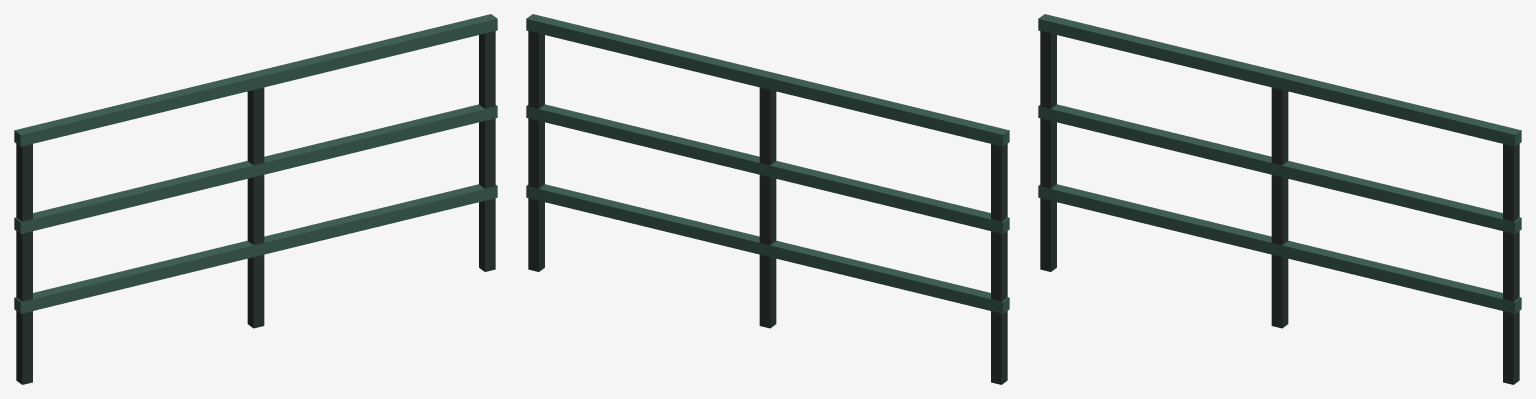
Rendered from balcony_railing.glb.
3 renders of one model, left to right at view 1: azimuth 30°, elevation 25°; view 2: azimuth 150°, elevation 25°; view 3: azimuth 330°, elevation 25°, orthographic.
Parts seen in each view (by area): view 1: balcony_railing; view 2: balcony_railing; view 3: balcony_railing.
Boxes of the visible parts, x1,y1,x2,y2 form: balcony_railing: [14, 14, 497, 384]; balcony_railing: [526, 14, 1009, 384]; balcony_railing: [1038, 14, 1521, 384].
Bounding box in the file's own units: 2 × 1 × 0.047.
